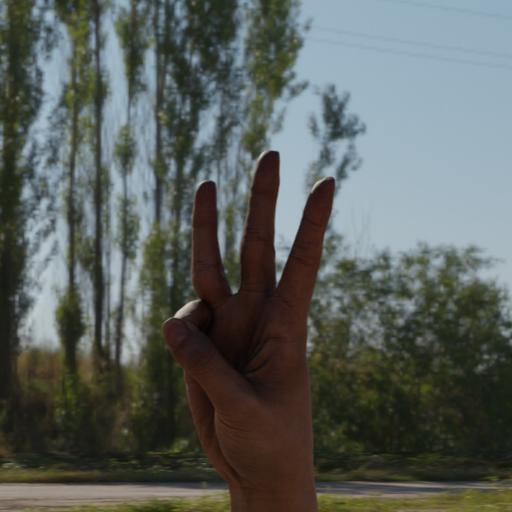W: (156, 140, 340, 486)
